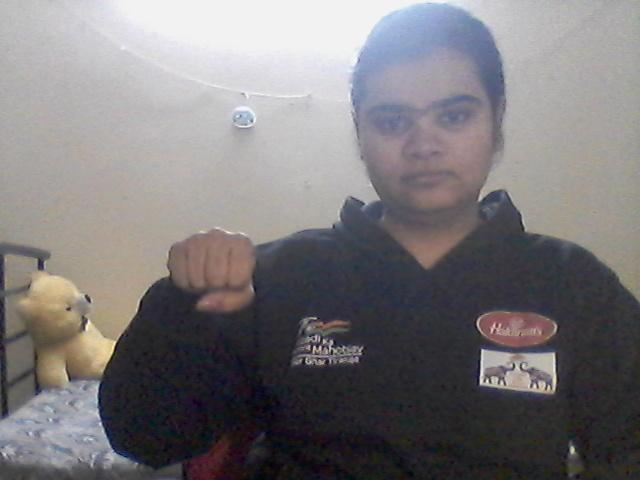yes: (166, 224, 259, 313)
